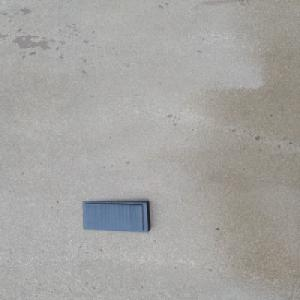PlasticPart: (81, 200, 152, 232)
